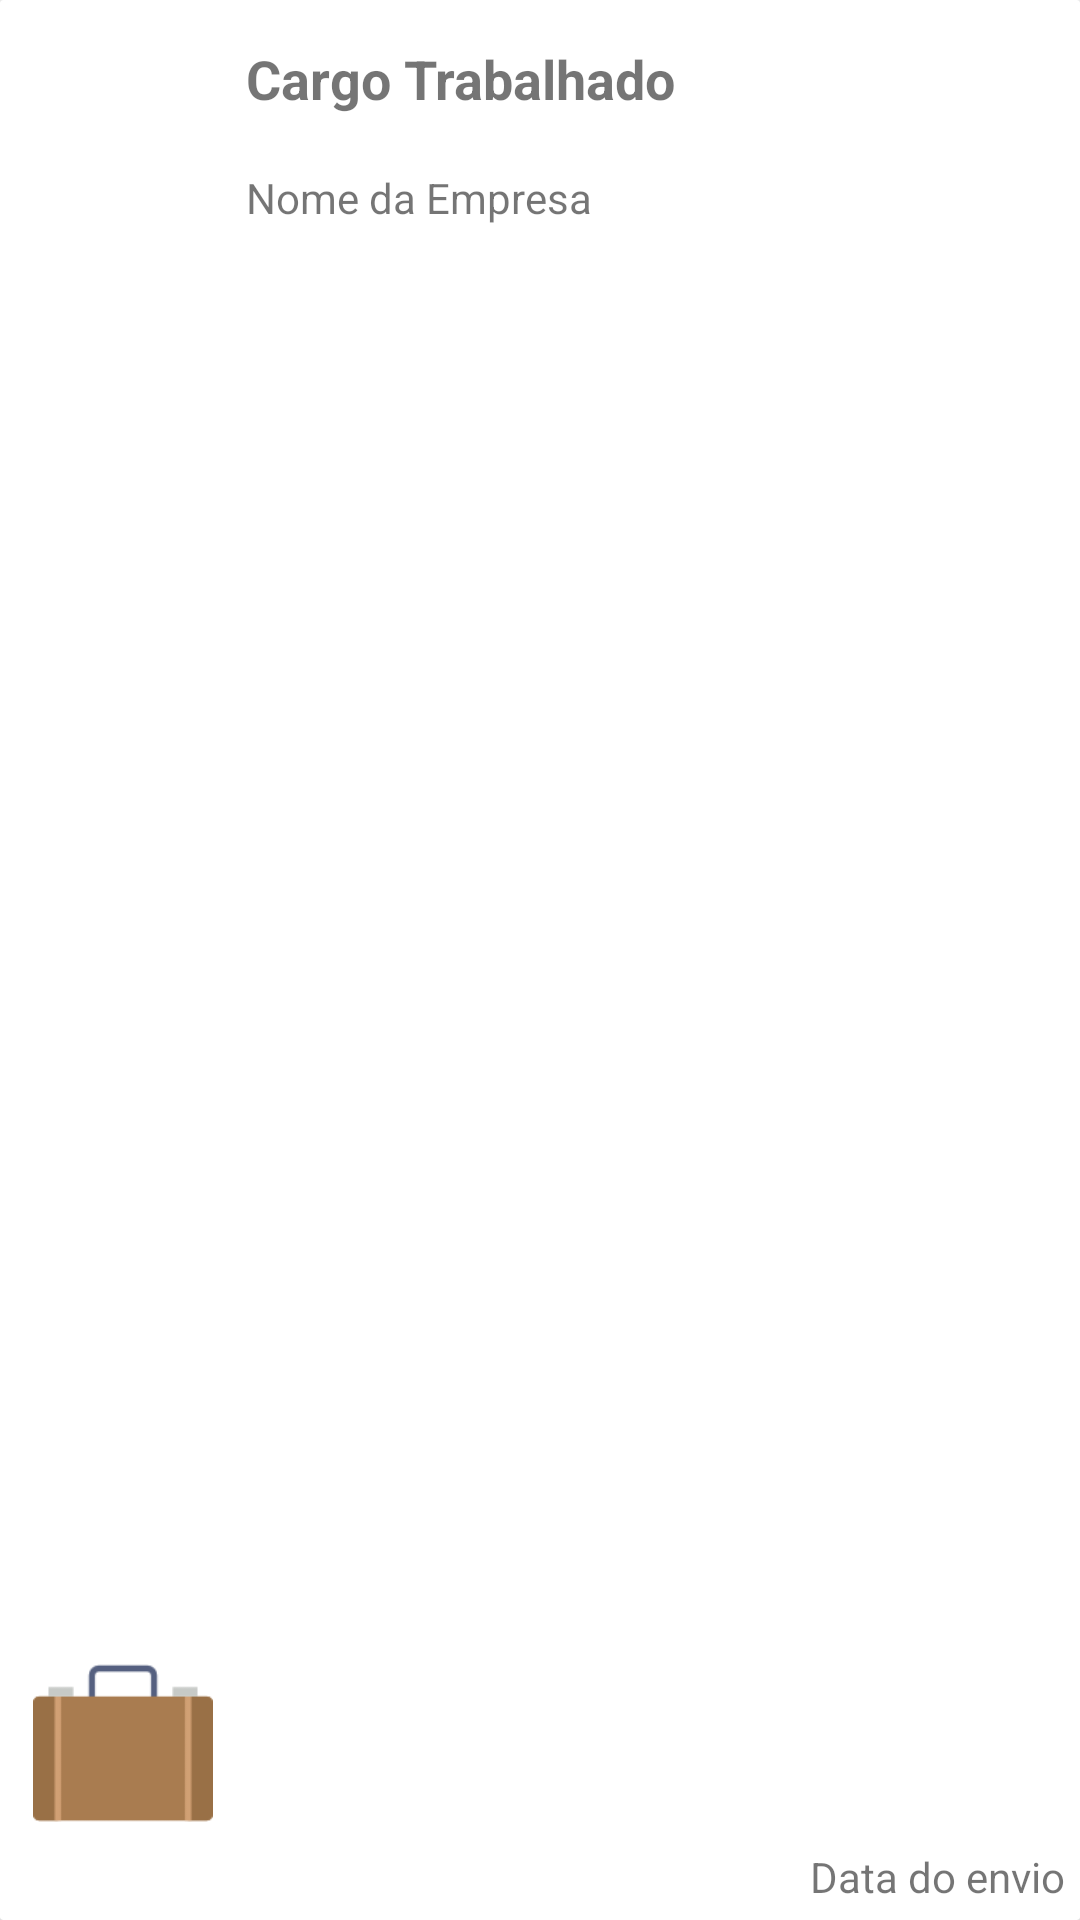

Point at icon controls on the screen. Image size 1080 x 1920, points as point (x, y).
suitecase: point (123, 1743)
